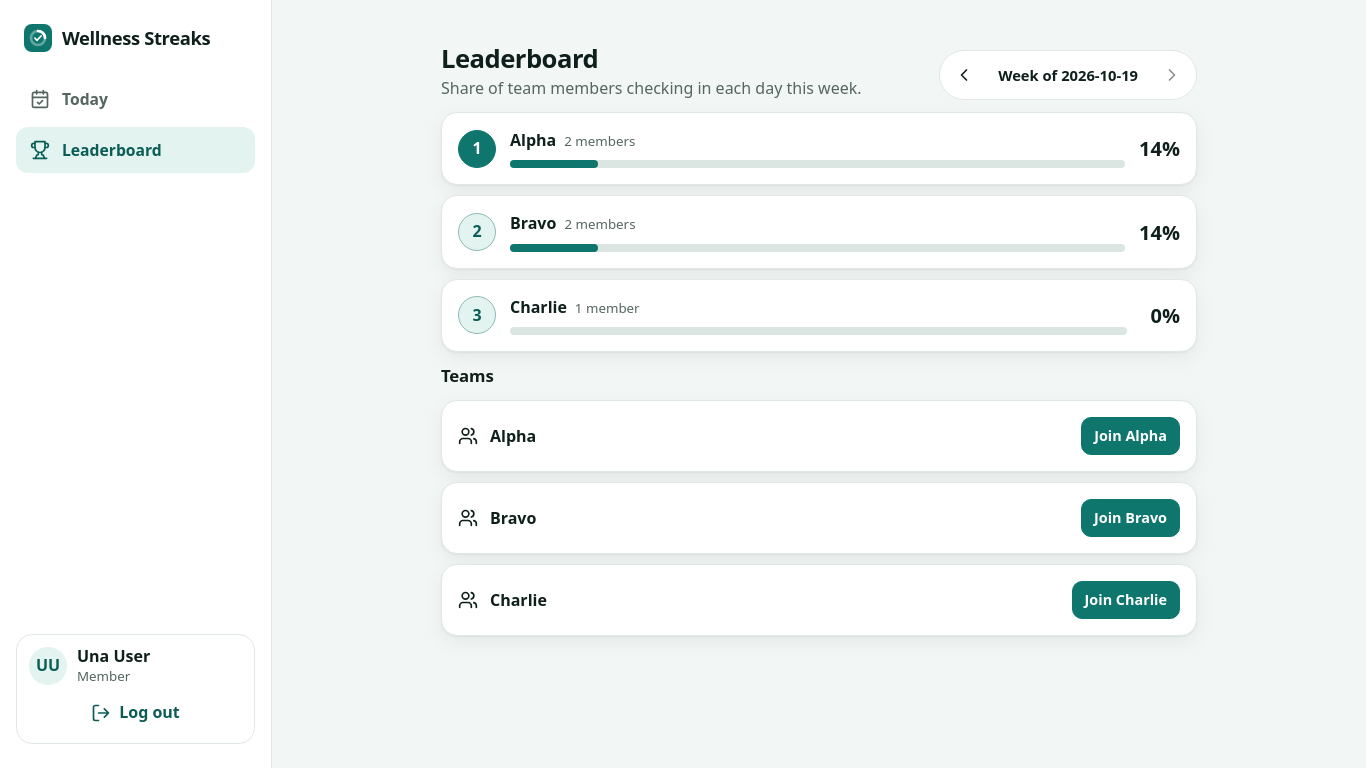
Scenario: leaderboard › disables joining other teams while in one (one active team, SPEC 5.8)
Click the button "Join Charlie" at [1126, 600], box [1072,581,1180,619]
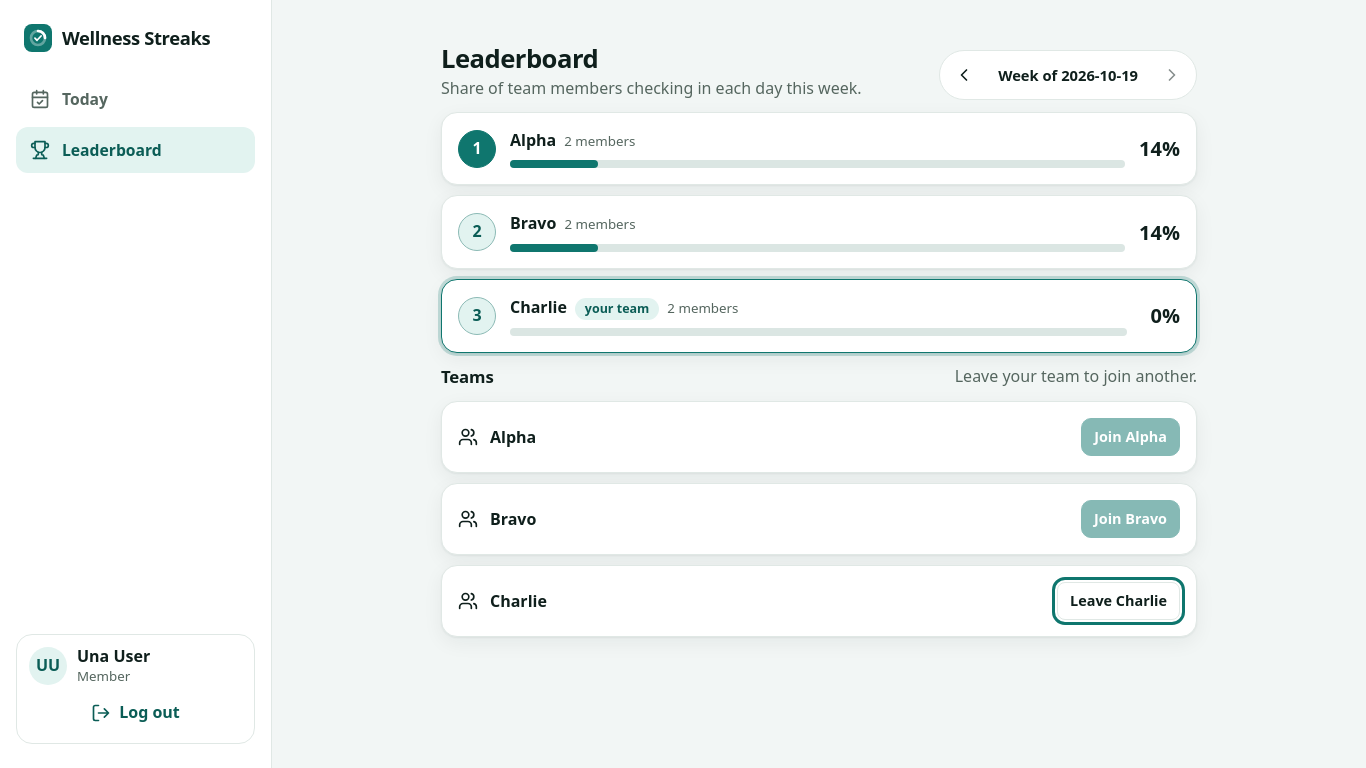
Now the button "Leave Charlie" is shown
Now the button "Join Alpha" is disabled, box [1081,418,1180,456]
Click the button "Leave Charlie" at [1119, 601], box [1057,582,1180,620]
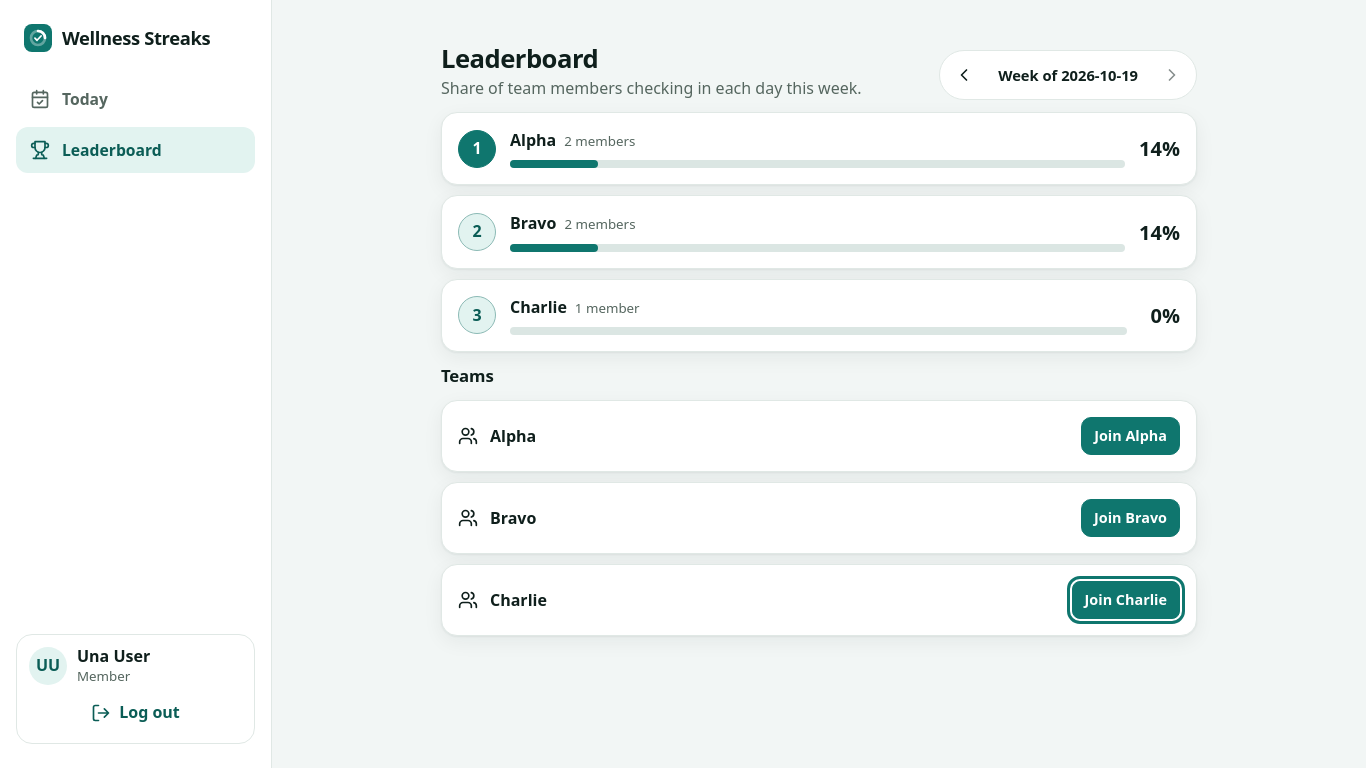
Now the button "Join Alpha" is enabled, box [1081,417,1180,455]
